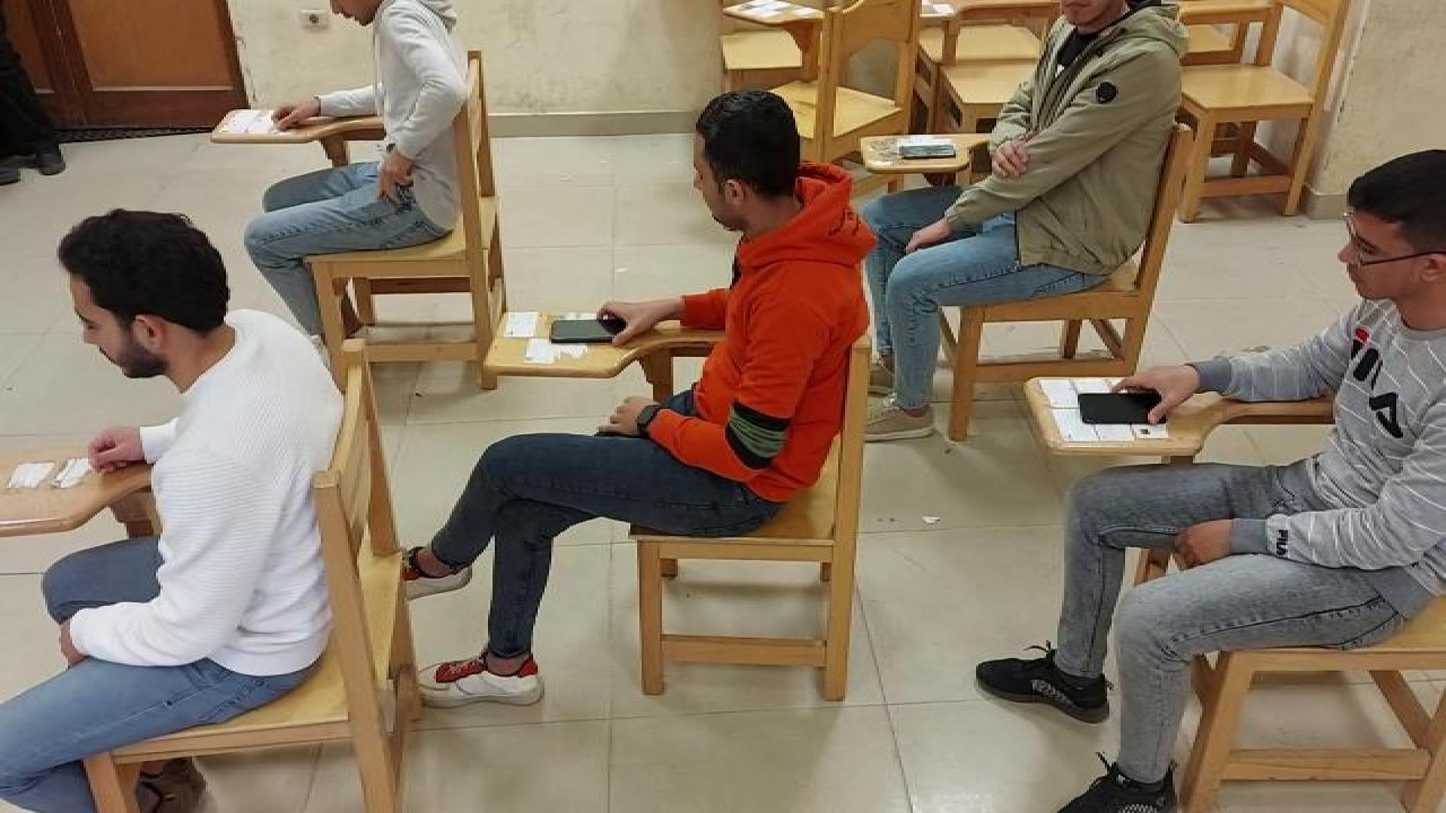phone: (1081, 394, 1167, 424), (550, 318, 629, 343), (901, 144, 953, 159)
